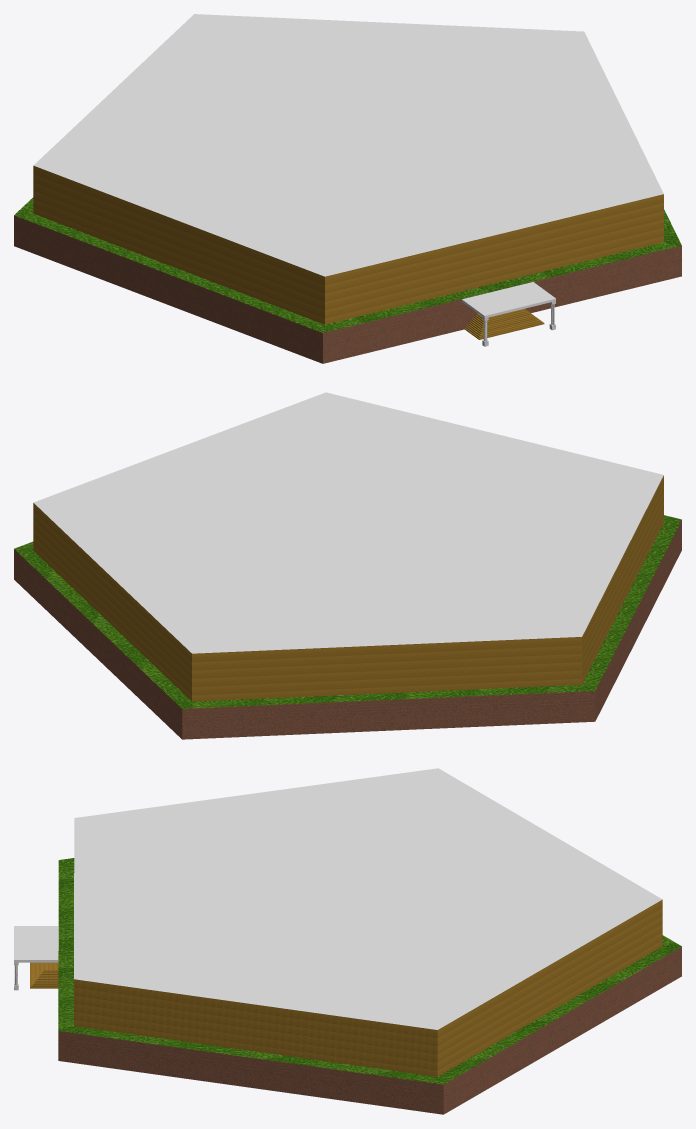
Rendered from Casino.glb.
3 renders of one model, top to bottom at view 1: azimuth 30°, elevation 25°; view 2: azimuth 150°, elevation 25°; view 3: azimuth 270°, elevation 25°, orthographic. The views are drawn at different scales.
Visible parts, largest first — view 1: Cube.004, Cube, Cube.001; view 2: Cube.004; view 3: Cube.004, Cube, Cube.001.
Part boxes in pixels (box(x1,y1,x2,y2)): Cube.004: box(14, 14, 681, 363); Cube: box(462, 282, 555, 318); Cube.001: box(464, 309, 544, 339); Cube.004: box(14, 392, 681, 739); Cube.004: box(58, 768, 681, 1114); Cube: box(14, 926, 58, 962); Cube.001: box(30, 951, 58, 988).
Size of the model in its own units: 148 by 19.12 by 151.
5 materials, 4 textured.
